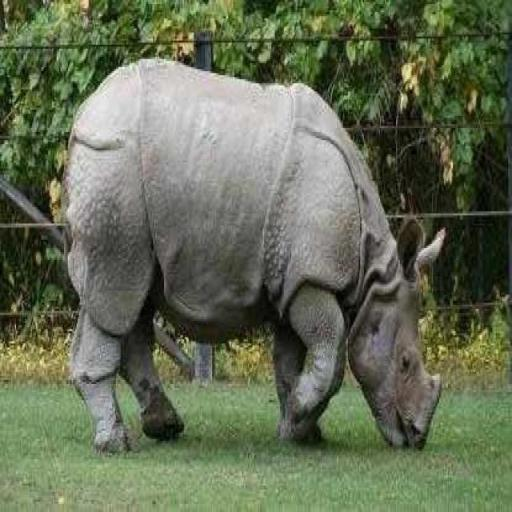Rhino: (58, 54, 447, 456)
